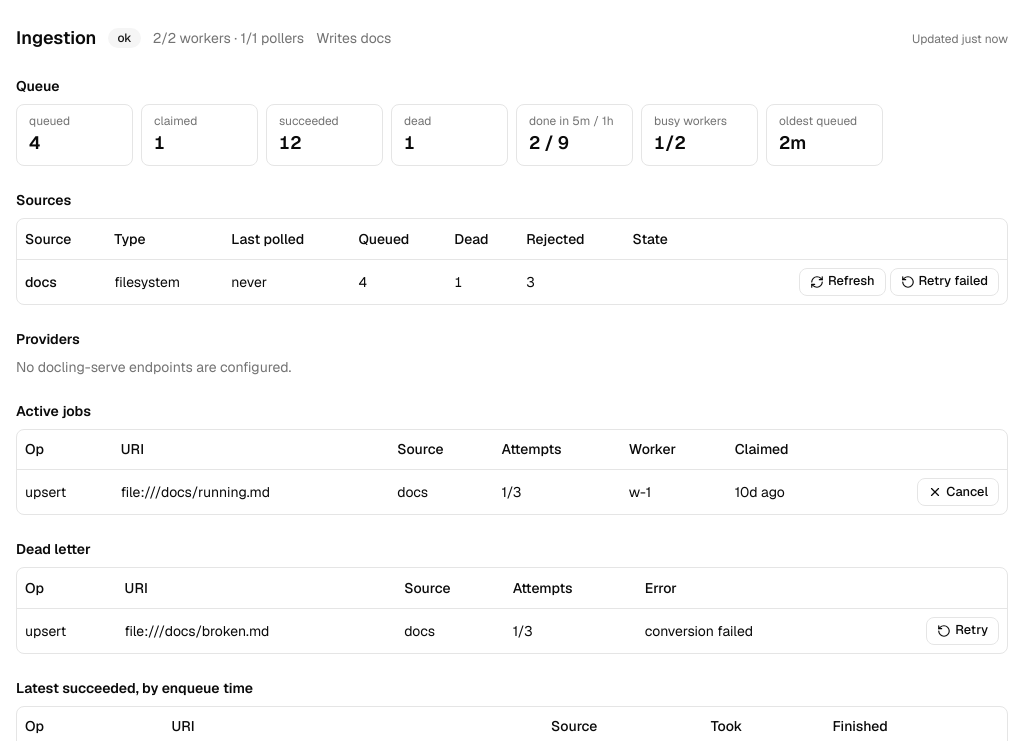
IngestionPage › retries a source's dead jobs
Expected: the text "filesystem" is shown, [106,259,223,304]
Click the button "Retry failed": (944, 282) [890,268,999,296]
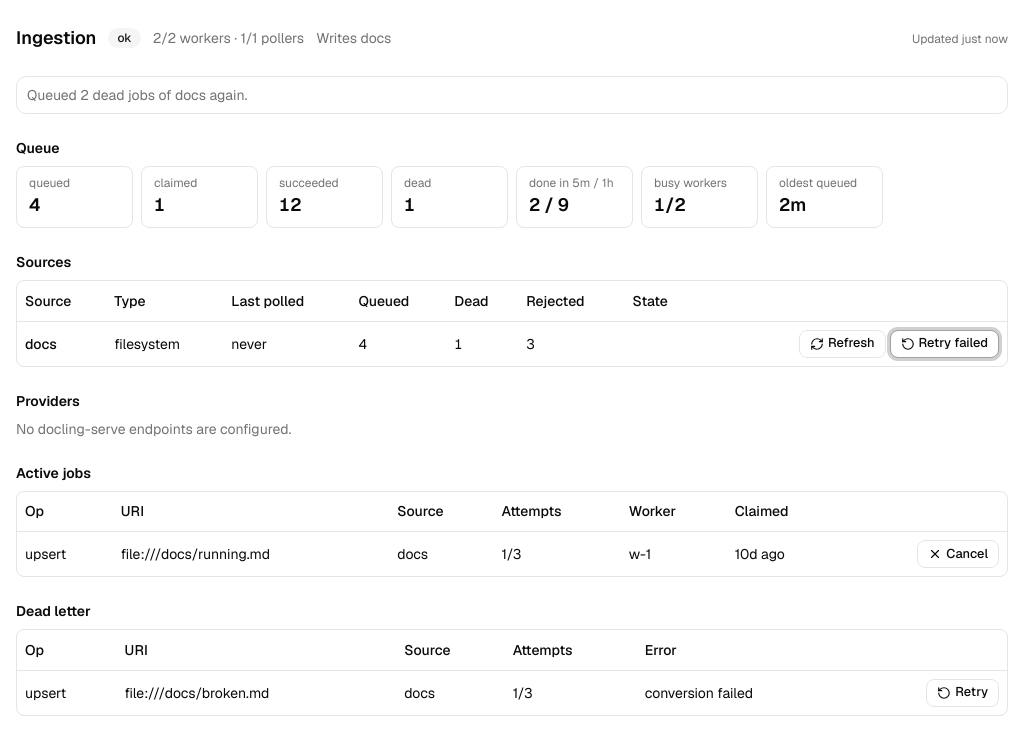
Expected: the text "Queued 2 dead jobs of docs again." is shown, [27,86,247,104]
